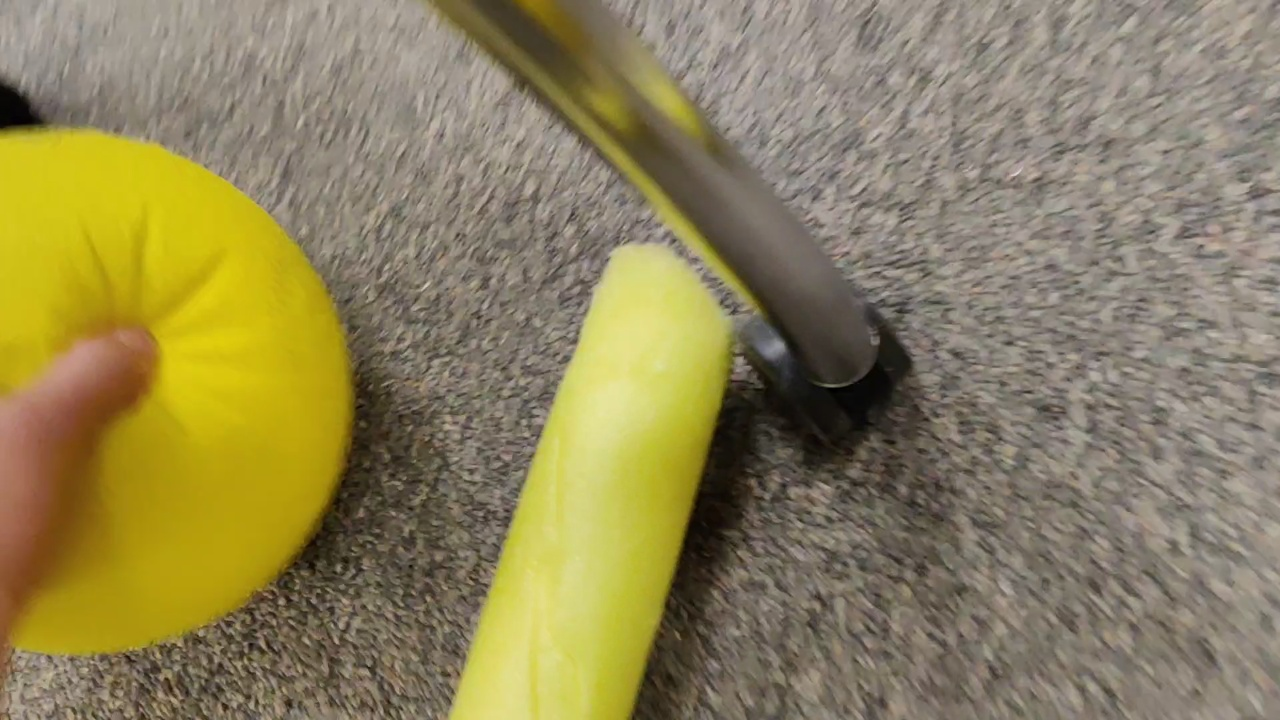Ball: (1, 127, 354, 646)
